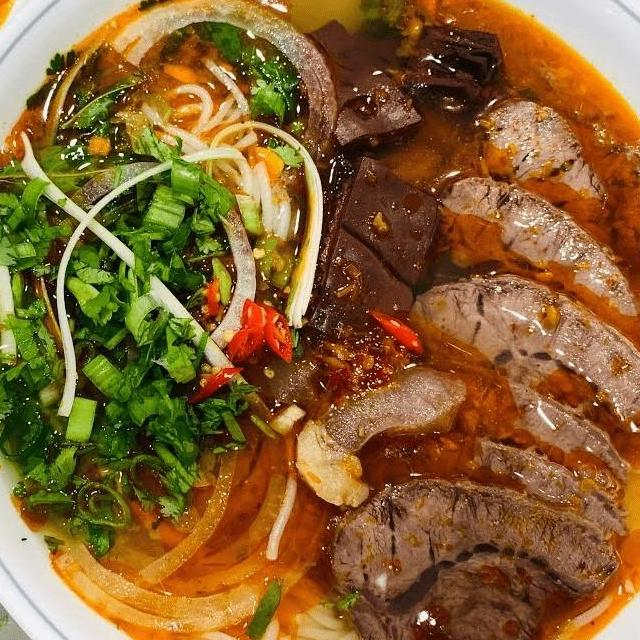bun: (130, 42, 296, 248), (173, 545, 390, 640), (622, 379, 640, 557)
bun bo: (0, 0, 640, 640)
thit bo: (318, 470, 628, 640), (393, 261, 640, 454), (340, 424, 636, 576), (380, 348, 634, 516), (417, 169, 640, 358), (450, 95, 640, 291)
